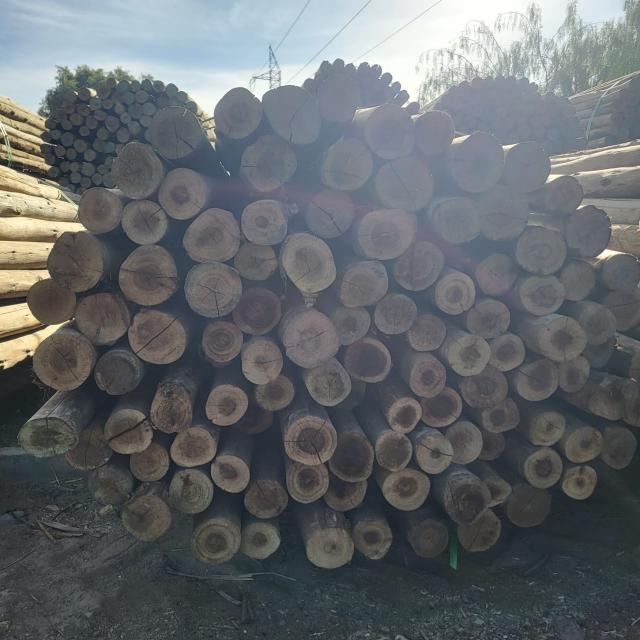package: (14, 73, 640, 572), (44, 77, 199, 193), (444, 74, 588, 170)
